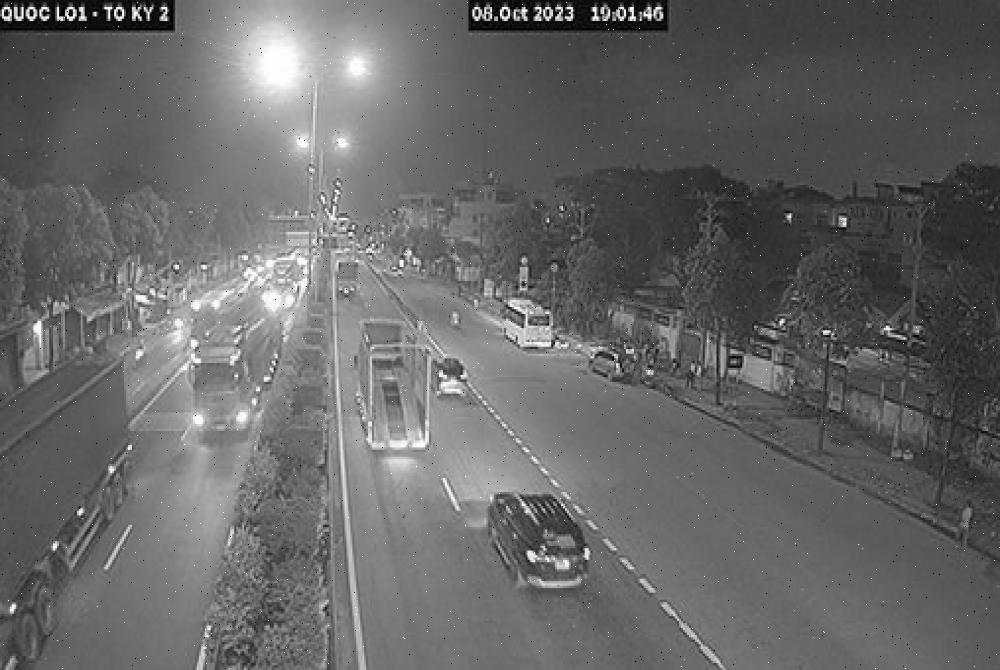bus: (490, 289, 564, 371)
car: (471, 465, 595, 624), (433, 344, 472, 429), (584, 339, 634, 391)
